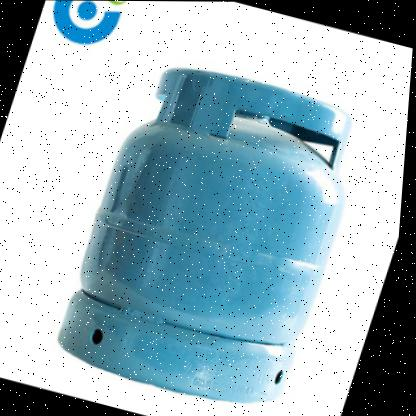gas-tank: (37, 35, 399, 415)
